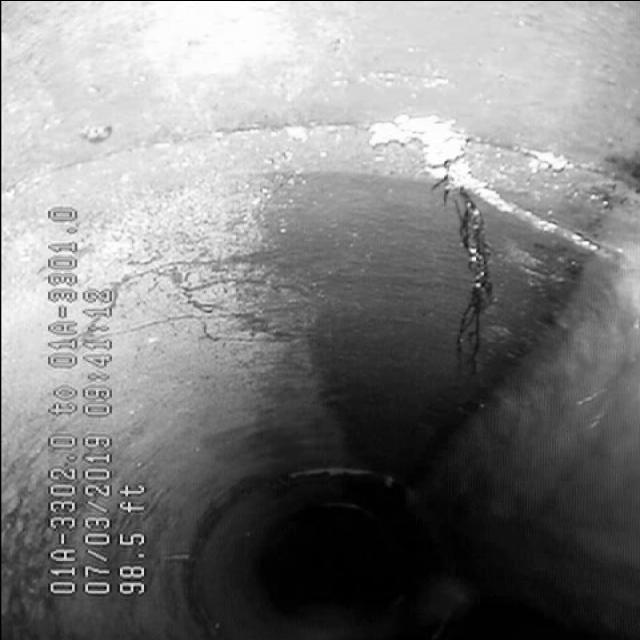Fracture: (408, 158, 510, 380)
